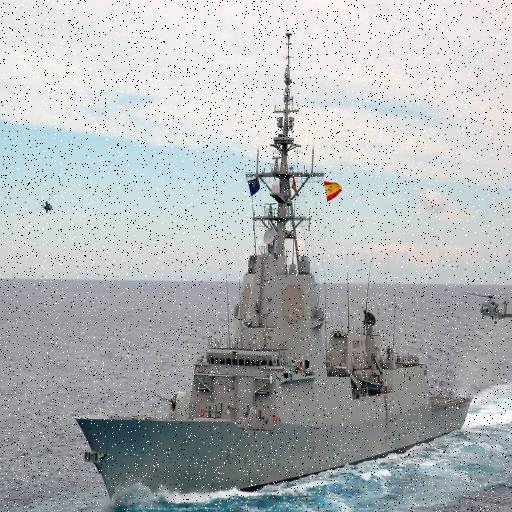Fragata: (1, 21, 308, 512)
